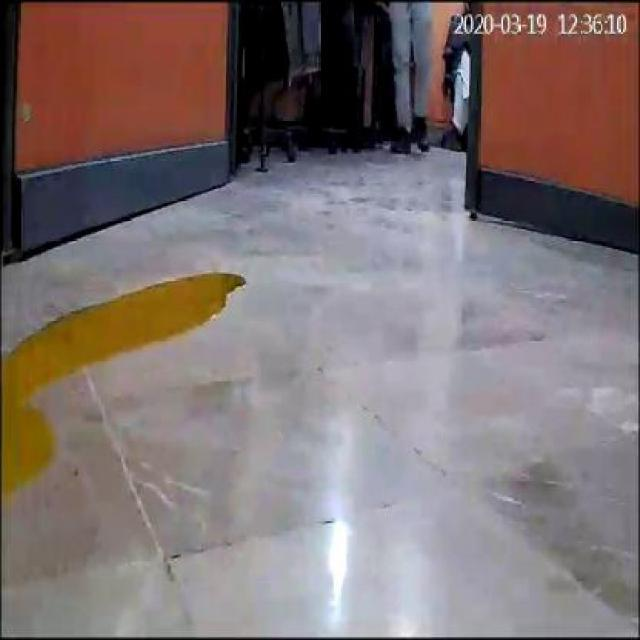spill: (0, 273, 251, 501)
